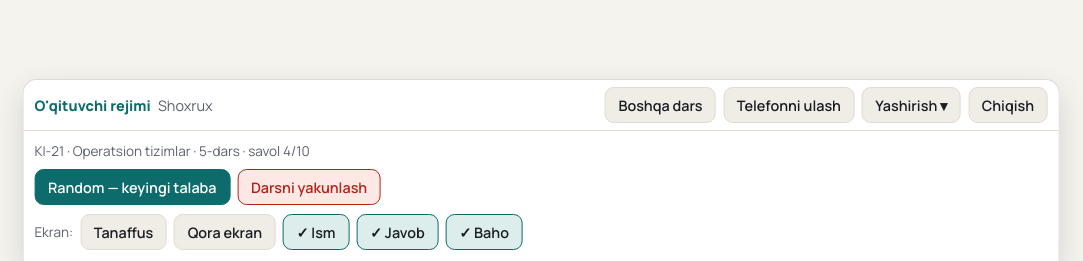
Test: TeacherPanel › offers to finish when nobody is left to ask
Click the button "Random — keyingi talaba": point(132, 187) [34, 169, 230, 205]
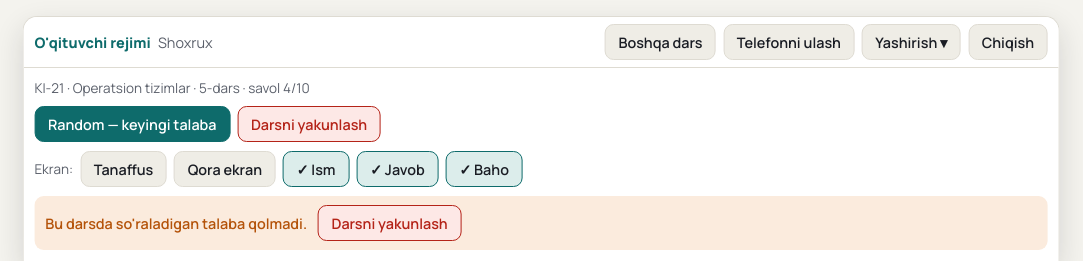
Now the text "Bu darsda so'raladigan talaba qolmadi." is shown, box [45, 214, 307, 233]
